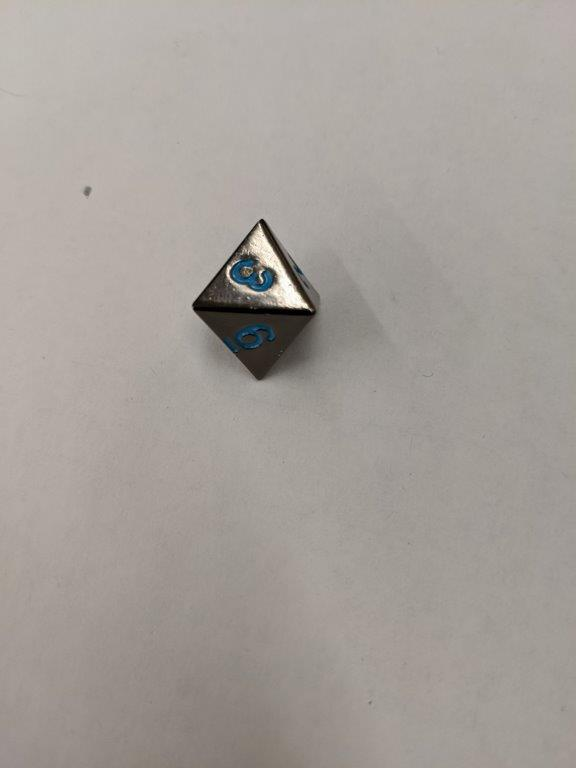d8-3: (192, 218, 320, 383)
